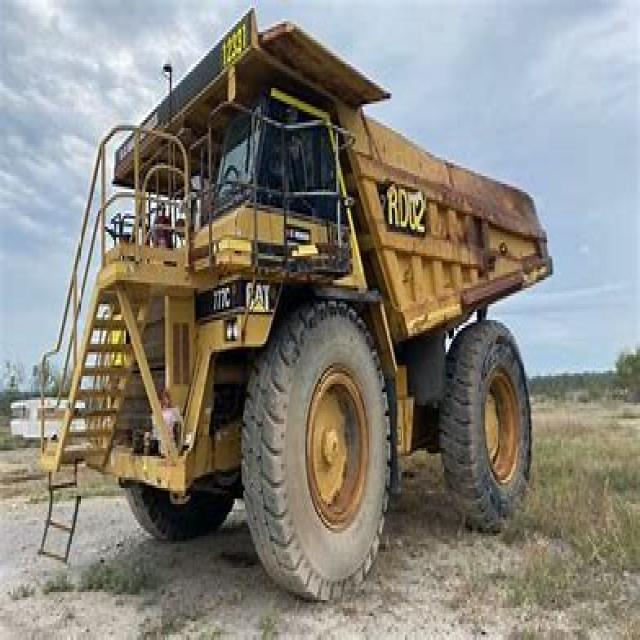dump_truck: (39, 8, 542, 597)
